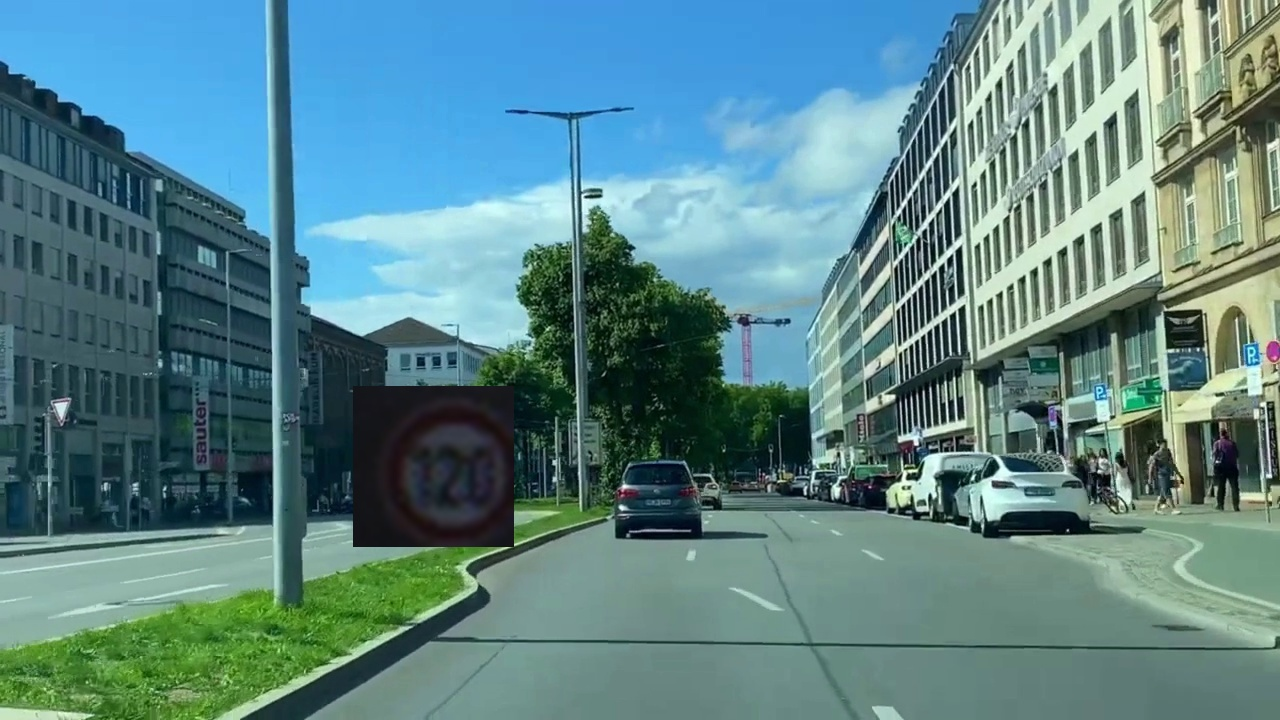Speed 120: (353, 386, 514, 547)
